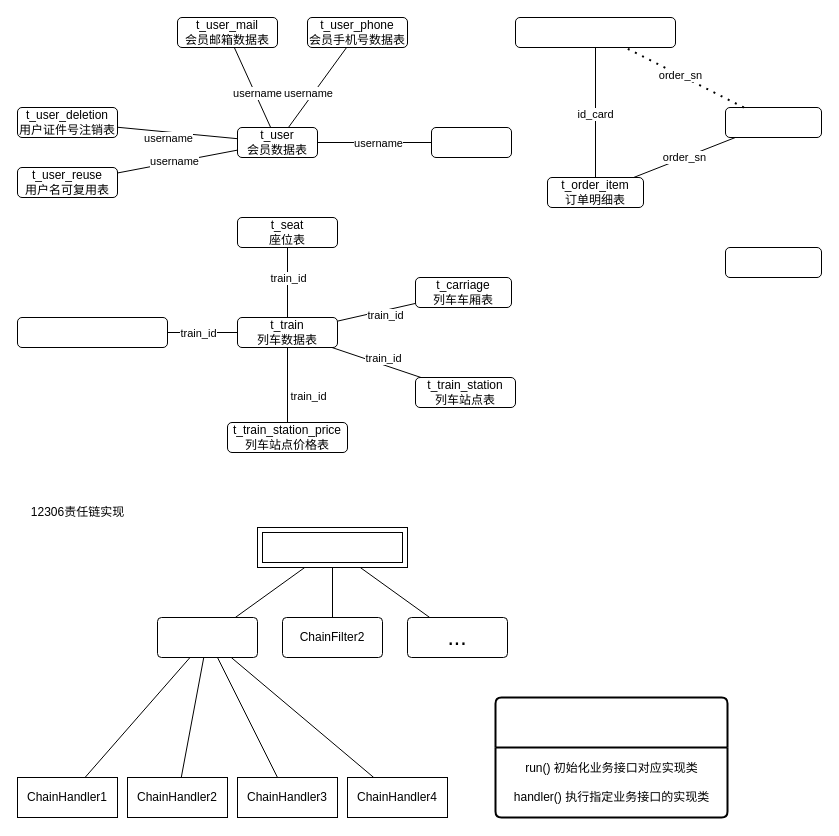
Image size: 839x836. Some labels were removed from this diagram. The shapes that lost their labels are listed below. From the top down, each one's box as (x1, y1, x2, y2) in pixels, then its label:
(514, 16, 676, 48): t_order_item_passenger 订单明细乘车人表
(430, 126, 512, 158): t_passenger 乘车人数据表
(724, 106, 822, 138): t_order 订单主表
(724, 246, 822, 278): t_pay 订单支付表
(16, 316, 168, 348): t_train_station_relation 列车站点关联表
(256, 526, 408, 568): AbstractChainHandler
(156, 616, 258, 658): ChainFilter1
(494, 696, 728, 818): AbstractChainContext
